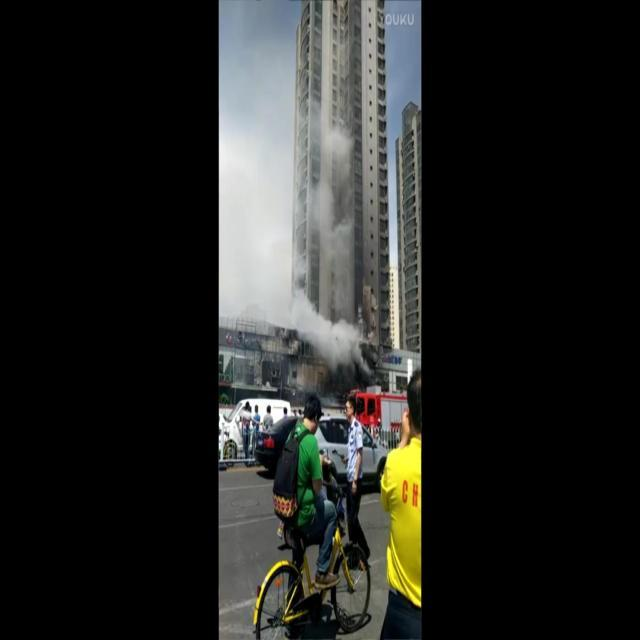Smoke: (254, 60, 375, 378)
